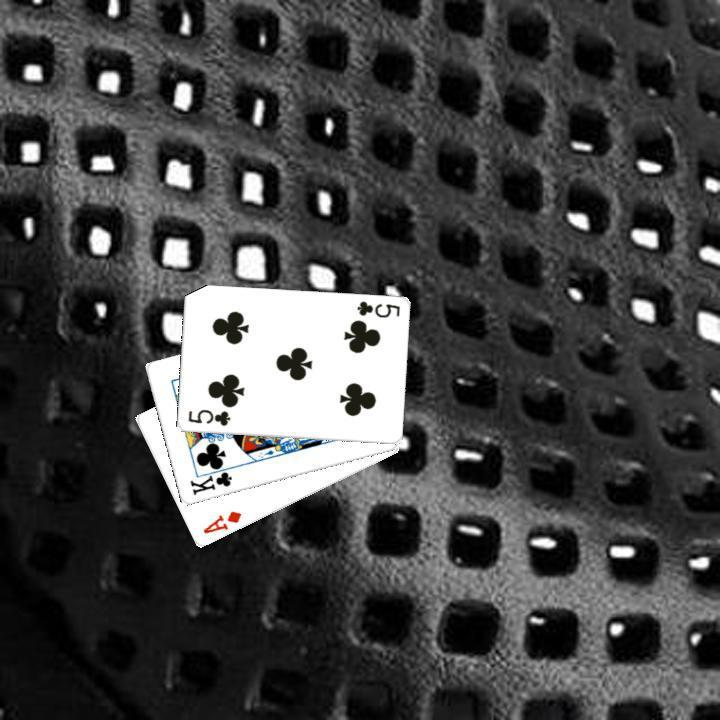5: (352, 297, 401, 320), (183, 406, 232, 428)
A: (198, 507, 243, 536)
K: (185, 462, 235, 497)
